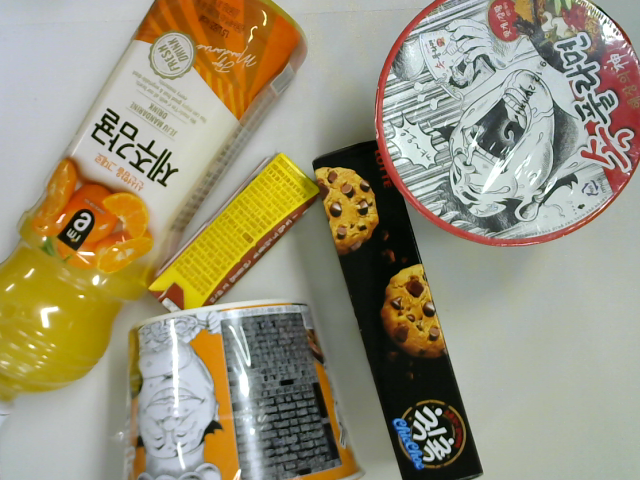Chicchok_Original_2400: (311, 135, 488, 479)
Choco_E_Mong: (145, 150, 321, 315)
Hejangchan: (124, 294, 370, 480)
Hejangpul: (372, 1, 640, 251)
Jeju_Tangerine_1.5L: (1, 1, 307, 439)
